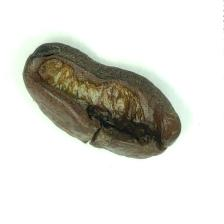NG: (64, 55, 150, 153), (25, 42, 63, 105)
